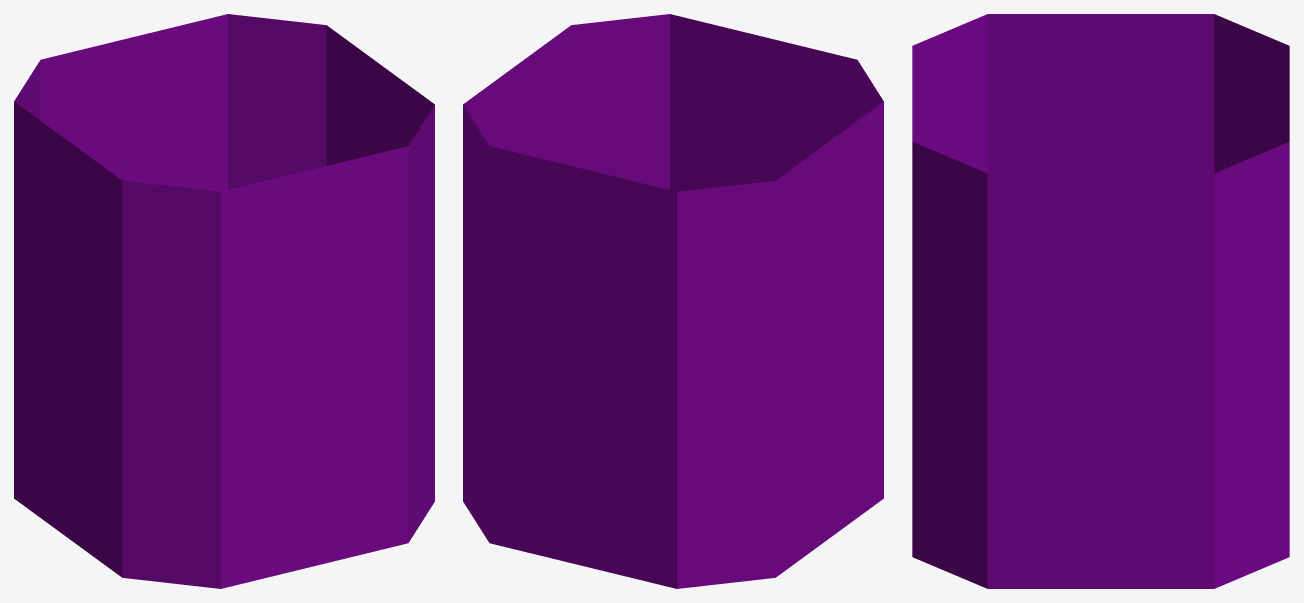
Rendered from Arena Centro.fbx.
3 renders of one model, left to right at view 1: azimuth 30°, elevation 25°; view 2: azimuth 150°, elevation 25°; view 3: azimuth 270°, elevation 25°, orthographic. The views are drawn at different scales.
Visible parts, largest first — view 1: arena_centro; view 2: arena_centro; view 3: arena_centro.
Part boxes in pixels (x1,y1,x2,y2): arena_centro: (14,14,434,588); arena_centro: (463,14,883,588); arena_centro: (912,14,1289,588).
Bounding box in the file's own units: 70 × 85 × 70.
